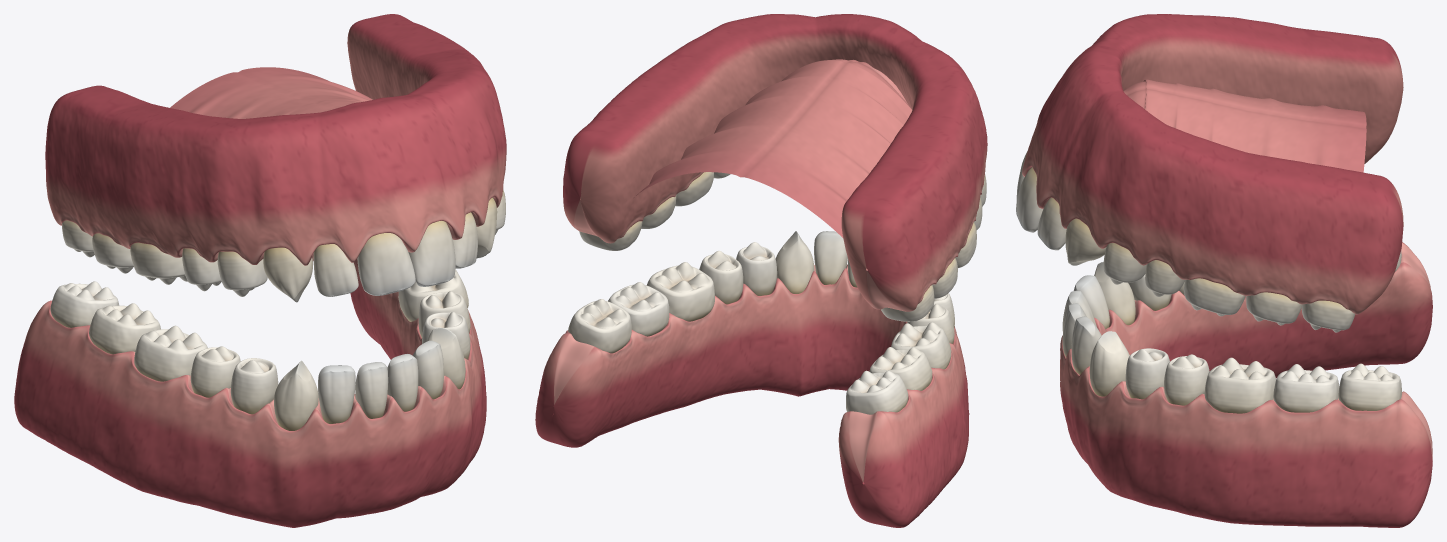
The model's file is human_dentition.glb.
The picture shows the model from 3 angles, left to right: view 1: azimuth 30°, elevation 25°; view 2: azimuth 150°, elevation 25°; view 3: azimuth 270°, elevation 25°; orthographic projection. The views are drawn at different scales.
Visible parts, largest first — view 1: maxillary_gingiva, mandibular_gingiva, hard_palate, tooth_46_lower_right_first_molar_crown, tooth_11_upper_right_central_incisor_crown, tooth_47_lower_right_second_molar_crown, tooth_21_upper_left_central_incisor_crown, tooth_43_lower_right_canine_crown, tooth_48_lower_right_third_molar_crown, tooth_44_lower_right_first_premolar_crown, tooth_42_lower_right_lateral_incisor_crown, tooth_45_lower_right_second_premolar_crown (+16 smaller); view 2: maxillary_gingiva, mandibular_gingiva, hard_palate, tooth_36_lower_left_first_molar_crown, tooth_38_lower_left_third_molar_crown, tooth_48_lower_right_third_molar_crown, tooth_37_lower_left_second_molar_crown, tooth_47_lower_right_second_molar_crown, tooth_46_lower_right_first_molar_crown, tooth_33_lower_left_canine_crown, tooth_34_lower_left_first_premolar_crown, tooth_35_lower_left_second_premolar_crown (+7 smaller); view 3: maxillary_gingiva, mandibular_gingiva, hard_palate, tooth_36_lower_left_first_molar_crown, tooth_37_lower_left_second_molar_crown, tooth_38_lower_left_third_molar_crown, tooth_33_lower_left_canine_crown, tooth_35_lower_left_second_premolar_crown, tooth_34_lower_left_first_premolar_crown, tooth_26_upper_left_first_molar_crown, tooth_27_upper_left_second_molar_crown, tooth_28_upper_left_third_molar_crown (+10 smaller).
Part boxes in pixels (x1=…): maxillary_gingiva: x1=45, y1=14, x2=506, y2=265; mandibular_gingiva: x1=14, y1=258, x2=486, y2=527; hard_palate: x1=170, y1=67, x2=372, y2=118; tooth_46_lower_right_first_molar_crown: x1=134, y1=325, x2=207, y2=381; tooth_11_upper_right_central_incisor_crown: x1=357, y1=233, x2=415, y2=295; tooth_47_lower_right_second_molar_crown: x1=89, y1=303, x2=160, y2=354; tooth_21_upper_left_central_incisor_crown: x1=408, y1=221, x2=455, y2=286; tooth_43_lower_right_canine_crown: x1=274, y1=360, x2=318, y2=430; tooth_48_lower_right_third_molar_crown: x1=50, y1=281, x2=119, y2=327; tooth_44_lower_right_first_premolar_crown: x1=230, y1=358, x2=278, y2=414; tooth_42_lower_right_lateral_incisor_crown: x1=318, y1=365, x2=355, y2=423; tooth_45_lower_right_second_premolar_crown: x1=190, y1=346, x2=240, y2=397; maxillary_gingiva: x1=563, y1=14, x2=987, y2=311; mandibular_gingiva: x1=535, y1=264, x2=969, y2=527; hard_palate: x1=634, y1=59, x2=912, y2=237; tooth_36_lower_left_first_molar_crown: x1=646, y1=262, x2=714, y2=321; tooth_38_lower_left_third_molar_crown: x1=568, y1=299, x2=631, y2=353; tooth_48_lower_right_third_molar_crown: x1=846, y1=370, x2=908, y2=414; tooth_37_lower_left_second_molar_crown: x1=608, y1=282, x2=669, y2=336; tooth_47_lower_right_second_molar_crown: x1=869, y1=347, x2=932, y2=390; tooth_46_lower_right_first_molar_crown: x1=891, y1=322, x2=951, y2=369; tooth_33_lower_left_canine_crown: x1=775, y1=231, x2=814, y2=293; tooth_34_lower_left_first_premolar_crown: x1=736, y1=242, x2=777, y2=295; tooth_35_lower_left_second_premolar_crown: x1=699, y1=251, x2=743, y2=304; maxillary_gingiva: x1=1022, y1=14, x2=1403, y2=314; mandibular_gingiva: x1=1060, y1=242, x2=1432, y2=527; hard_palate: x1=1123, y1=79, x2=1366, y2=172; tooth_36_lower_left_first_molar_crown: x1=1204, y1=357, x2=1276, y2=413; tooth_37_lower_left_second_molar_crown: x1=1273, y1=364, x2=1339, y2=412; tooth_38_lower_left_third_molar_crown: x1=1338, y1=363, x2=1401, y2=410; tooth_33_lower_left_canine_crown: x1=1089, y1=331, x2=1129, y2=396; tooth_35_lower_left_second_premolar_crown: x1=1164, y1=354, x2=1209, y2=405; tooth_34_lower_left_first_premolar_crown: x1=1125, y1=348, x2=1169, y2=399; tooth_26_upper_left_first_molar_crown: x1=1184, y1=278, x2=1245, y2=316; tooth_27_upper_left_second_molar_crown: x1=1246, y1=292, x2=1301, y2=325; tooth_28_upper_left_third_molar_crown: x1=1301, y1=300, x2=1355, y2=332.
Bounding box in the file's own units: 0.0732 × 0.0714 × 0.0675.
